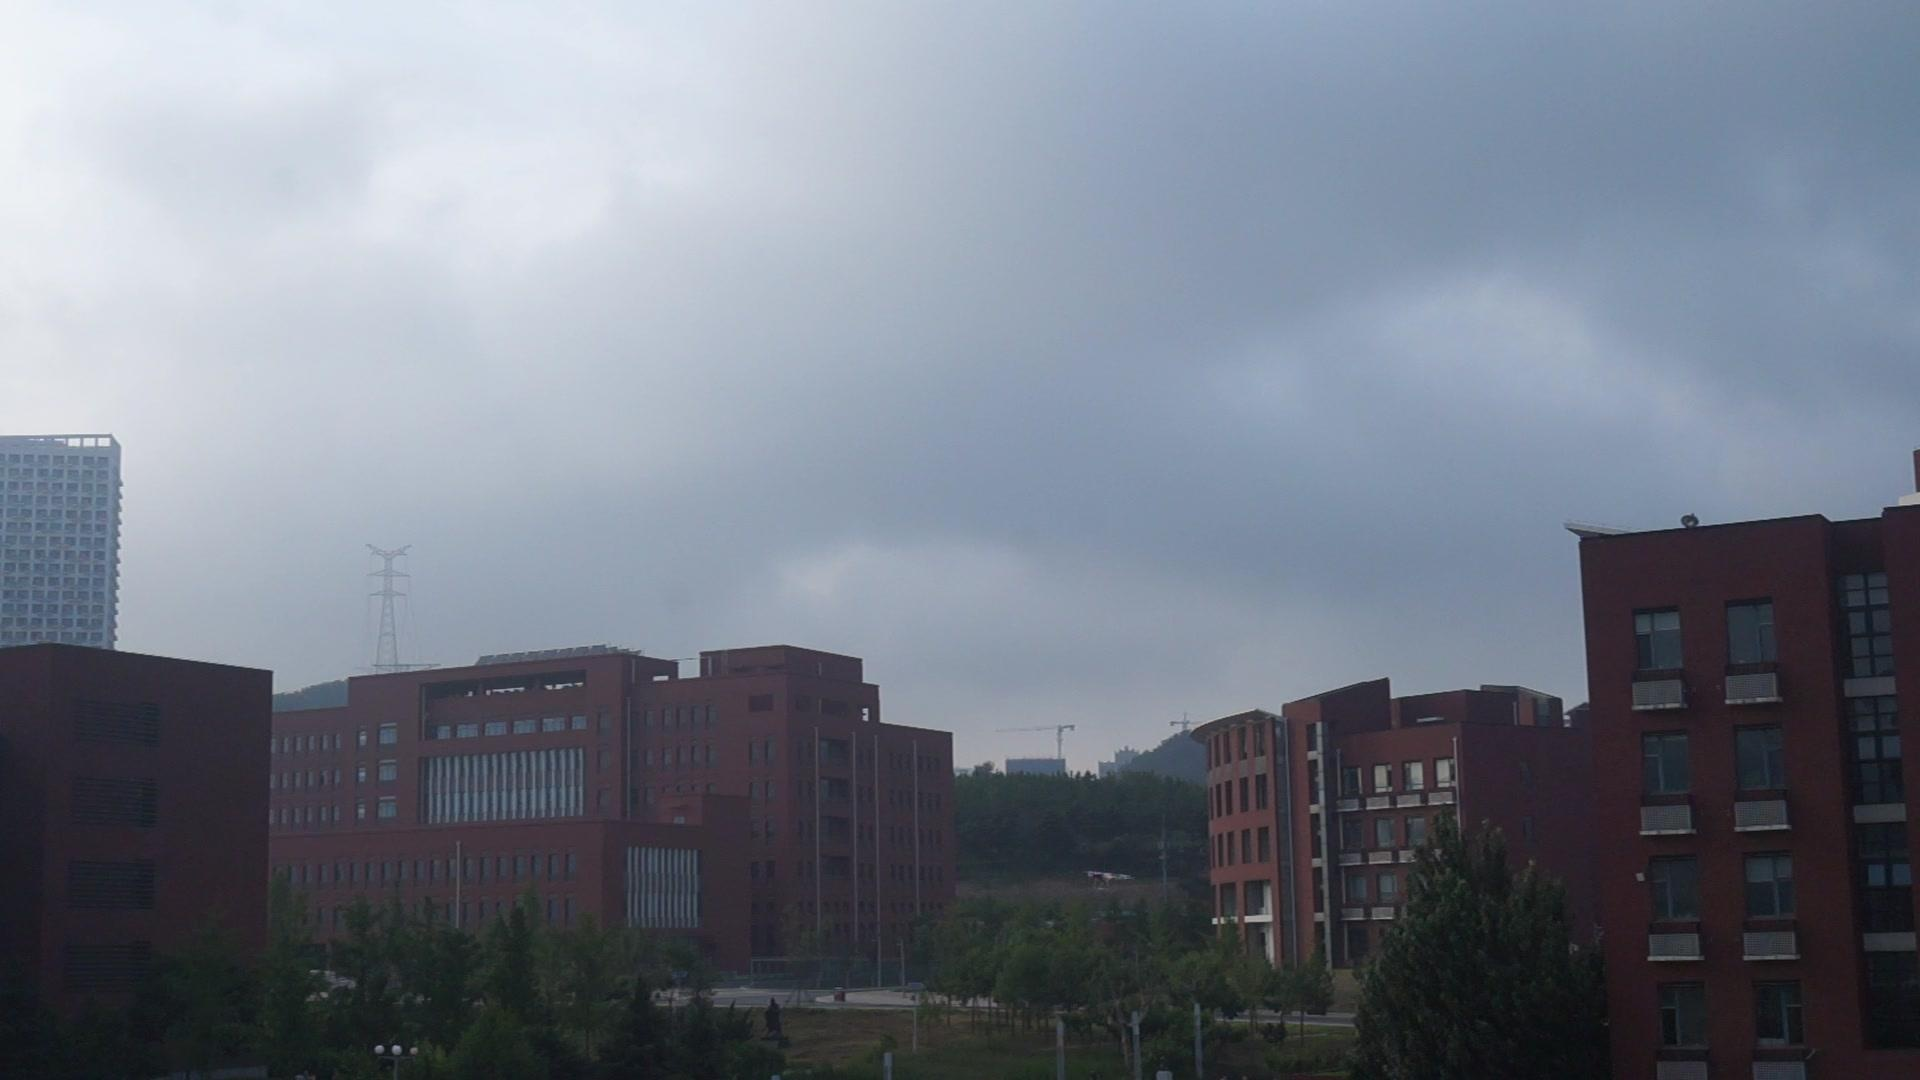UAV: (1088, 870, 1137, 891)
